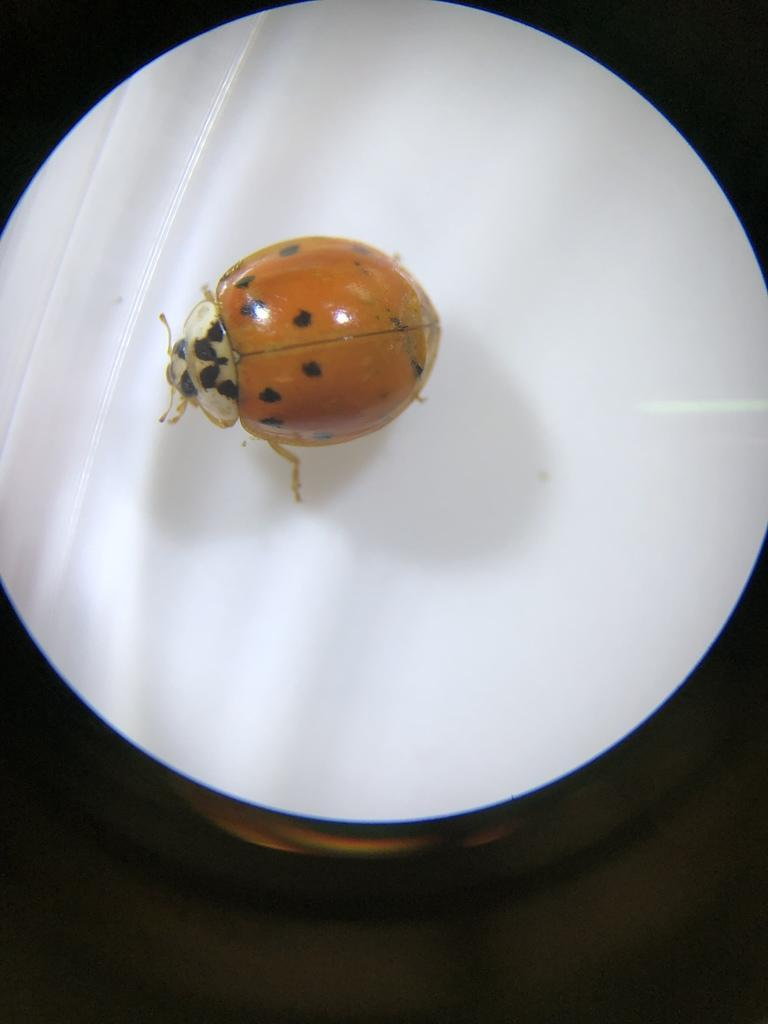ladybug: (156, 231, 449, 509)
